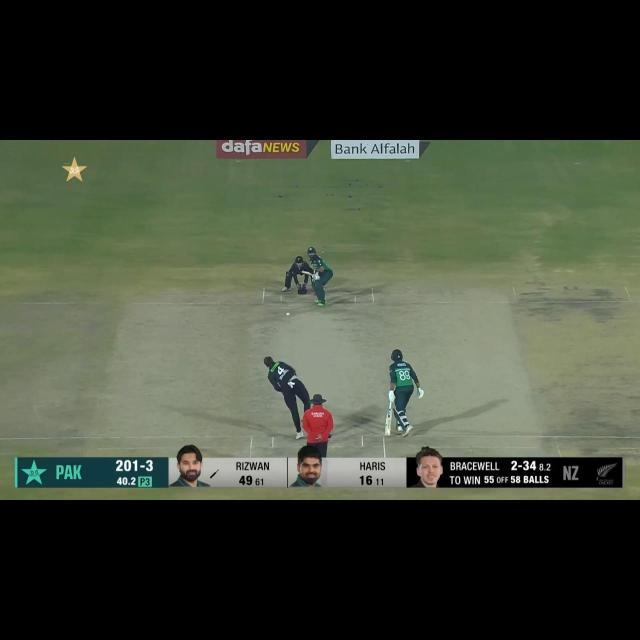bat: (384, 410, 392, 435), (300, 268, 312, 276)
toe: (384, 429, 392, 436), (300, 269, 306, 275)
